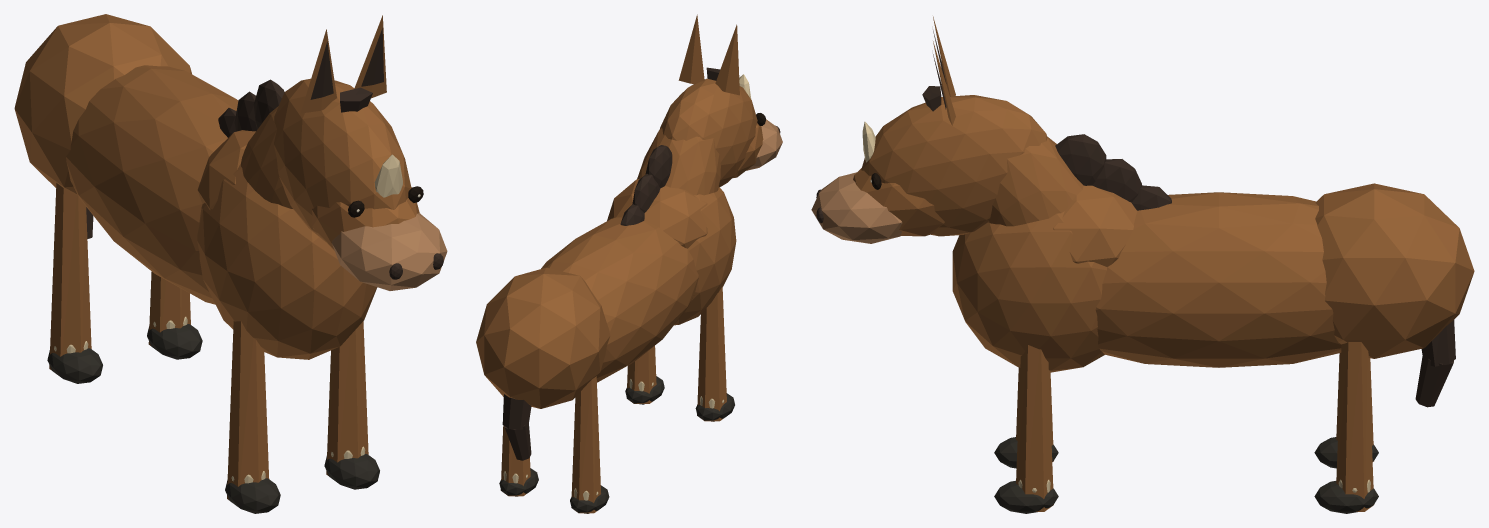
Rendered from low-poly-horse.glb.
The picture shows the model from 3 angles, left to right: view 1: azimuth 30°, elevation 25°; view 2: azimuth 150°, elevation 25°; view 3: azimuth 270°, elevation 25°; orthographic projection. The views are drawn at different scales.
Visible parts, largest first — view 1: horse-body-mesh, horse-chest-mesh, horse-rump-mesh, horse-head-mesh, horse-muzzle-mesh, horse-leg-rear-left-shaft-mesh, horse-leg-front-left-shaft-mesh, horse-leg-front-right-shaft-mesh, horse-neck-mesh, horse-jaw-mesh, horse-withers-mesh, horse-leg-rear-right-shaft-mesh (+12 smaller); view 2: horse-rump-mesh, horse-body-mesh, horse-head-mesh, horse-chest-mesh, horse-withers-mesh, horse-neck-mesh, horse-leg-rear-left-shaft-mesh, horse-leg-front-left-shaft-mesh, horse-leg-front-right-shaft-mesh, horse-ear-left-outer-mesh, horse-ear-right-outer-mesh, horse-leg-rear-right-shaft-mesh (+11 smaller); view 3: horse-body-mesh, horse-rump-mesh, horse-chest-mesh, horse-head-mesh, horse-neck-mesh, horse-leg-rear-right-shaft-mesh, horse-leg-front-right-shaft-mesh, horse-withers-mesh, horse-muzzle-mesh, horse-jaw-mesh, horse-mane-clump-1-mesh, horse-mane-clump-2-mesh (+4 smaller).
Boxes of the visible parts, x1,y1,x2,y2 form: horse-body-mesh: (66, 65, 238, 304); horse-chest-mesh: (197, 163, 377, 359); horse-rump-mesh: (14, 14, 191, 195); horse-head-mesh: (274, 78, 411, 242); horse-muzzle-mesh: (332, 213, 447, 290); horse-leg-rear-left-shaft-mesh: (49, 183, 91, 370); horse-leg-front-left-shaft-mesh: (227, 321, 269, 500); horse-leg-front-right-shaft-mesh: (326, 321, 368, 475); horse-neck-mesh: (241, 106, 292, 208); horse-jaw-mesh: (311, 187, 419, 250); horse-withers-mesh: (197, 130, 255, 210); horse-leg-rear-right-shaft-mesh: (148, 271, 190, 345); horse-rump-mesh: (476, 267, 610, 408); horse-body-mesh: (541, 217, 698, 382); horse-head-mesh: (660, 78, 757, 187); horse-chest-mesh: (674, 187, 736, 325); horse-withers-mesh: (607, 179, 707, 248); horse-neck-mesh: (637, 127, 720, 195); horse-leg-rear-left-shaft-mesh: (571, 376, 600, 513); horse-leg-front-left-shaft-mesh: (697, 286, 726, 421); horse-leg-front-right-shaft-mesh: (626, 346, 656, 403); horse-ear-left-outer-mesh: (715, 24, 739, 95); horse-ear-right-outer-mesh: (678, 14, 704, 84); horse-leg-rear-right-shaft-mesh: (500, 425, 530, 496); horse-body-mesh: (1095, 192, 1341, 367); horse-rump-mesh: (1315, 183, 1474, 358); horse-chest-mesh: (952, 211, 1106, 372); horse-head-mesh: (861, 95, 1047, 236); horse-neck-mesh: (988, 136, 1083, 226); horse-leg-rear-right-shaft-mesh: (1336, 342, 1374, 511); horse-leg-front-right-shaft-mesh: (1016, 345, 1053, 511); horse-withers-mesh: (1053, 185, 1136, 266); horse-muzzle-mesh: (811, 172, 902, 243); horse-jaw-mesh: (853, 168, 944, 236); horse-mane-clump-1-mesh: (1055, 134, 1106, 185); horse-mane-clump-2-mesh: (1092, 159, 1141, 202).
Size of the model in its own units: 0.3157 by 0.9969 by 1.29.
